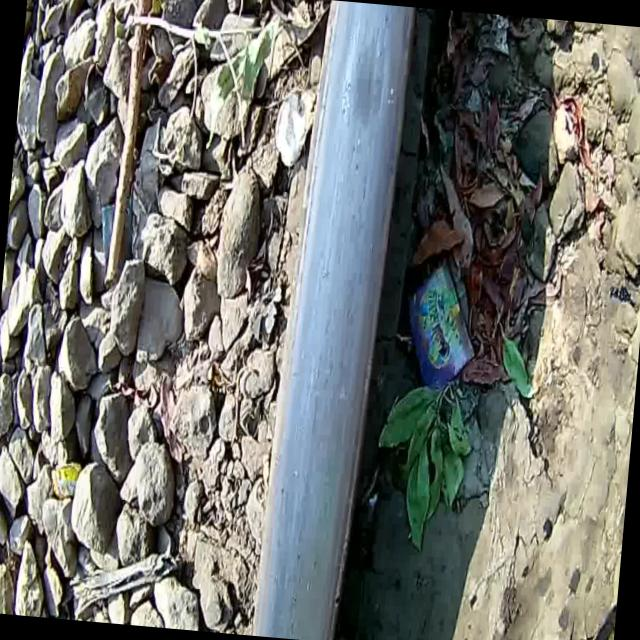Squats: (235, 0, 438, 640)
